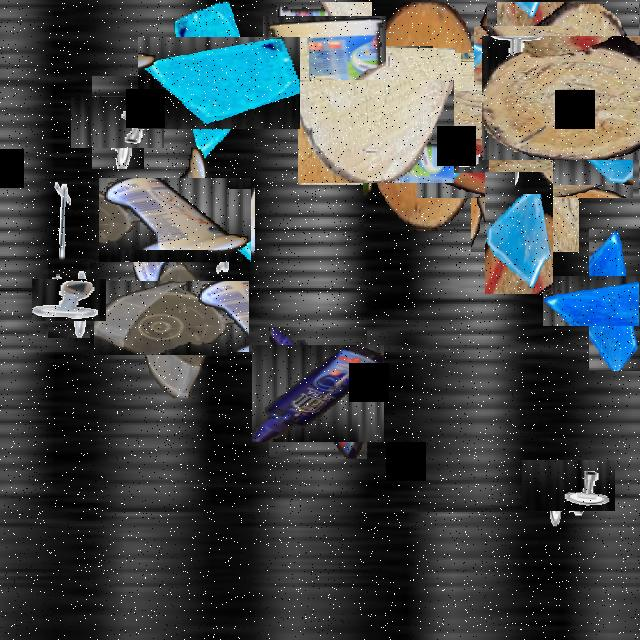glass: (155, 20, 283, 147), (485, 172, 553, 294), (566, 252, 640, 348)
metal: (486, 13, 568, 97), (533, 449, 605, 522), (82, 86, 154, 159), (41, 180, 95, 276), (205, 188, 255, 278), (40, 271, 98, 330)
plastic: (116, 161, 234, 280), (260, 336, 376, 450), (114, 260, 228, 376), (269, 9, 379, 119)
wood: (337, 28, 513, 203), (444, 63, 606, 225), (498, 19, 640, 177), (298, 80, 454, 183)
